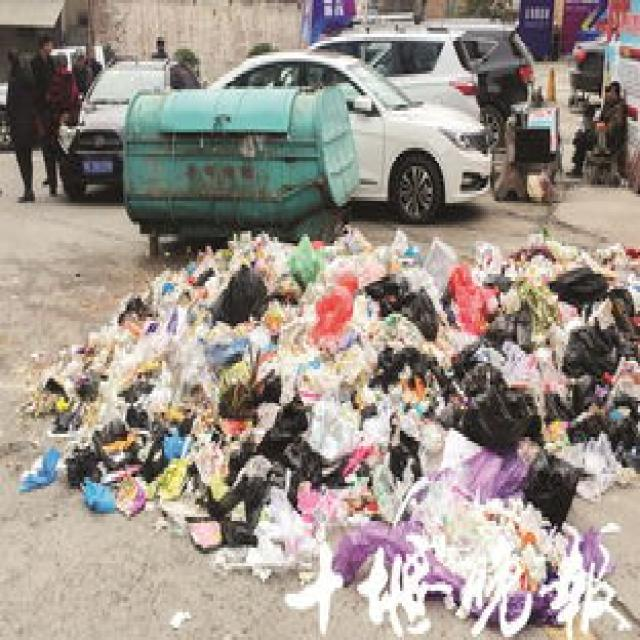garbage: (14, 228, 638, 637)
garbage_bin: (121, 86, 355, 225)
